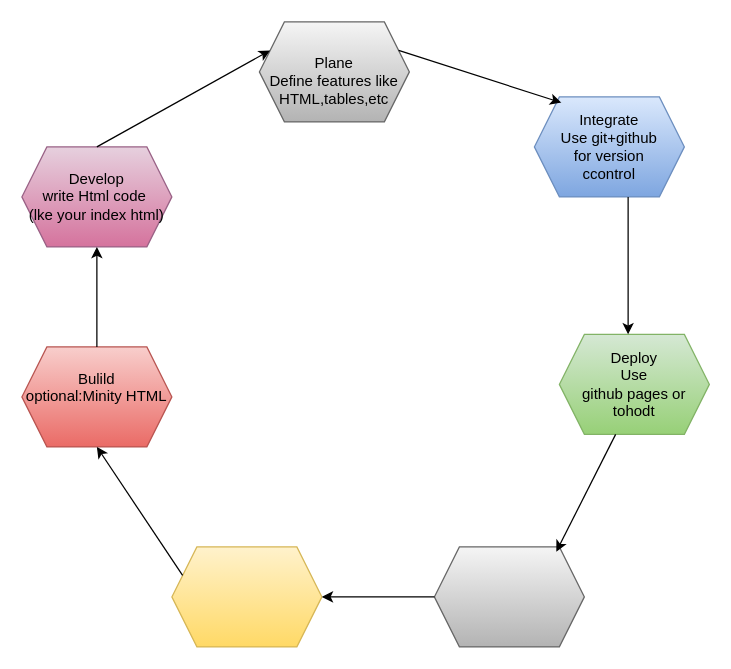
The diagram is 731 pixels wide and 669 high, and some of its shapes have lost their labels. The centre of each missing label's shape, as x and y in pixels:
Monitor Use gidhub insights lighthouse: point 508,596
Operate Check performance accessibility: point 246,596
